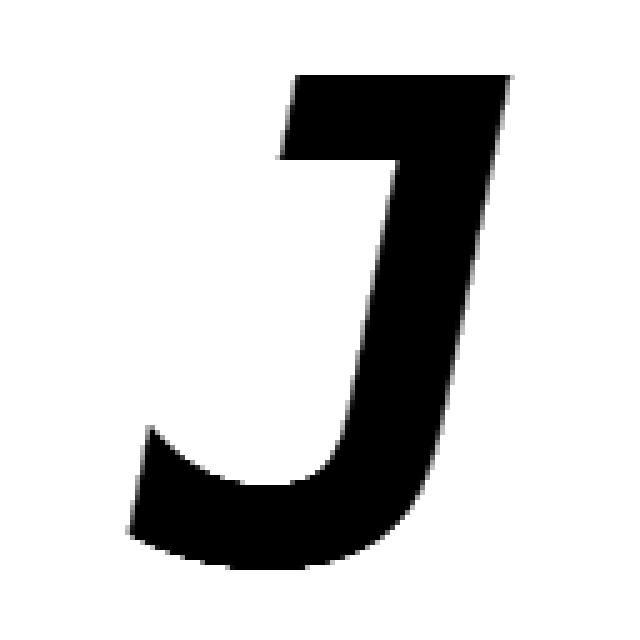J: (120, 65, 515, 575)
